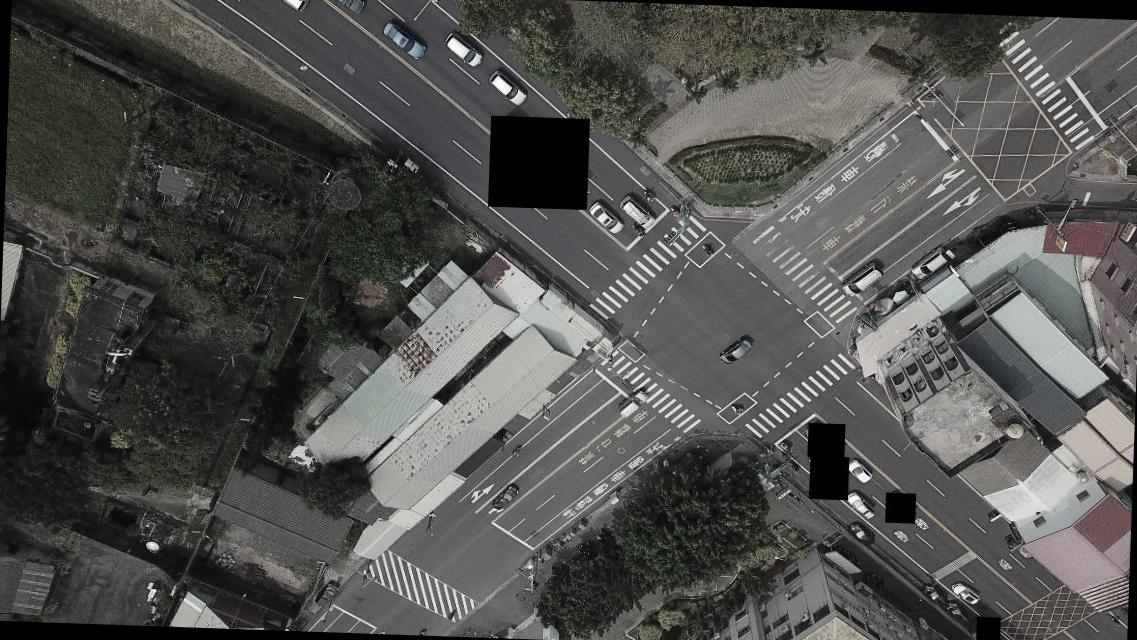vehicle: (381, 20, 425, 61), (908, 245, 953, 280), (486, 70, 526, 109), (442, 32, 483, 68), (540, 123, 580, 159), (841, 262, 882, 296), (617, 196, 656, 230), (586, 204, 626, 233), (720, 336, 753, 368), (616, 388, 647, 420), (844, 491, 874, 520), (492, 482, 518, 514), (846, 456, 872, 484), (327, 0, 366, 18), (314, 578, 339, 606), (950, 580, 979, 604), (920, 582, 947, 606), (848, 523, 874, 547), (946, 600, 968, 624), (267, 0, 309, 12)
